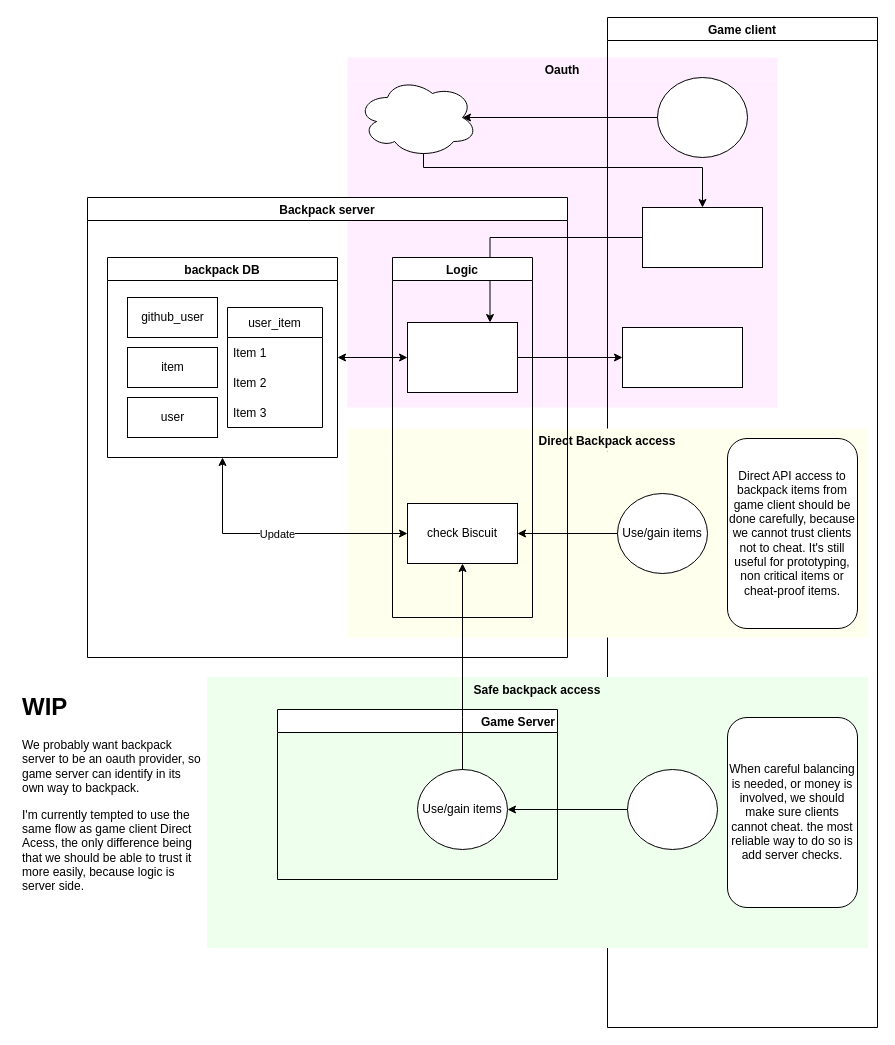
This 895x1045 diagram has some shape labels left out. Each missing label, with the centre of its shape:
Create/retrieve user account and return a Biscuit, scoped to game client: the point at 462,357
Get github code: the point at 702,237
Github: the point at 417,117
Normal play: the point at 672,809
store biscuit: the point at 682,357
wants to connect: the point at 702,117
